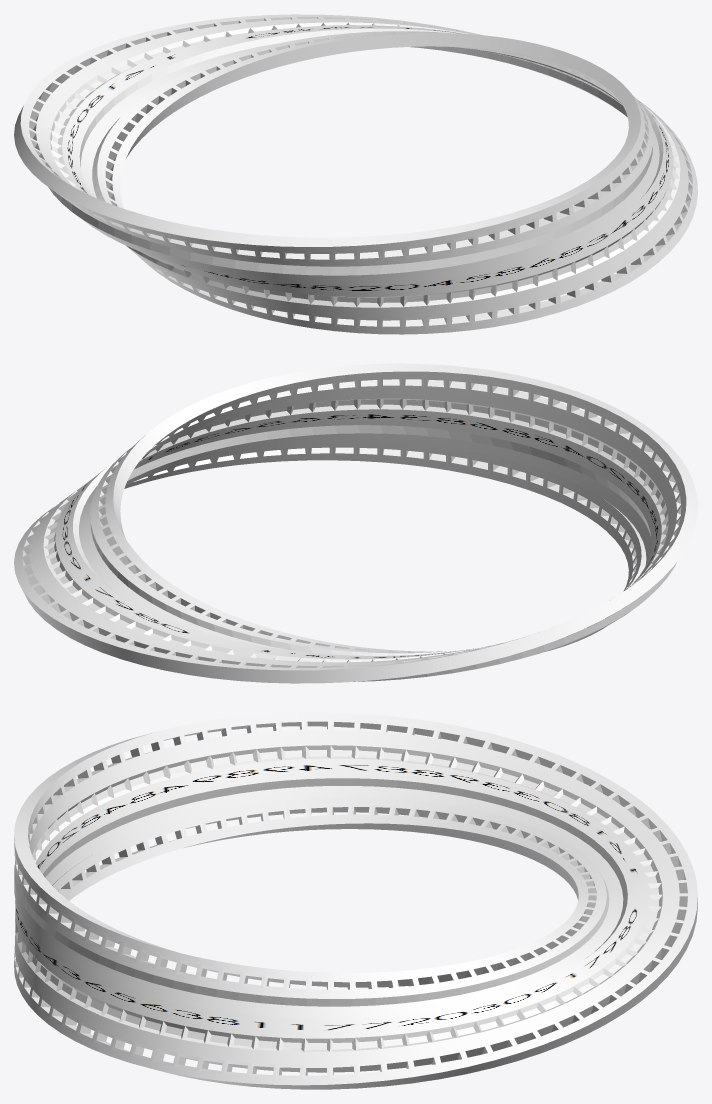
The model's file is mobius-strip.glb.
3 views of the same model, one above another, from view 1: azimuth 30°, elevation 25°; view 2: azimuth 150°, elevation 25°; view 3: azimuth 270°, elevation 25° (orthographic). The views are drawn at different scales.
Parts seen in each view (by area): view 1: Plane001_Mobius strip_0; view 2: Plane001_Mobius strip_0; view 3: Plane001_Mobius strip_0.
Part boxes in pixels (box(x1,y1,x2,y2)): Plane001_Mobius strip_0: box(14, 14, 697, 334); Plane001_Mobius strip_0: box(14, 363, 697, 683); Plane001_Mobius strip_0: box(14, 712, 697, 1089).
Size of the model in its own units: 5.67 by 0.9576 by 5.45.
Materials: 1 (1 with a texture image).
